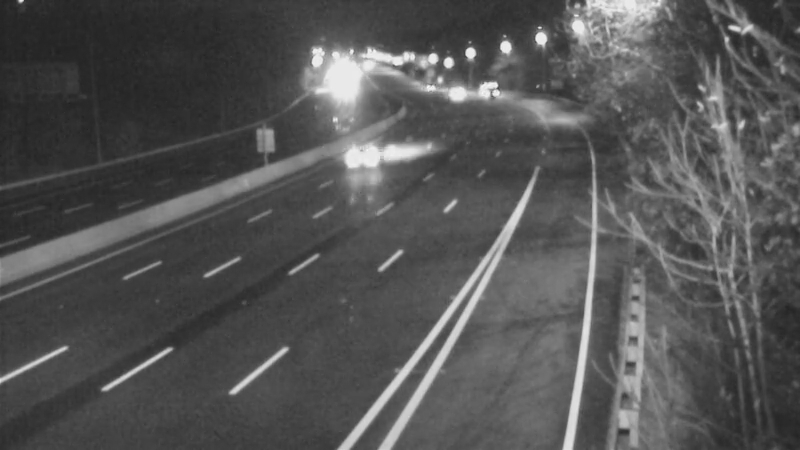vehicle: (326, 113, 406, 193), (402, 62, 452, 112), (455, 68, 505, 118), (429, 69, 479, 119), (316, 61, 366, 111)
